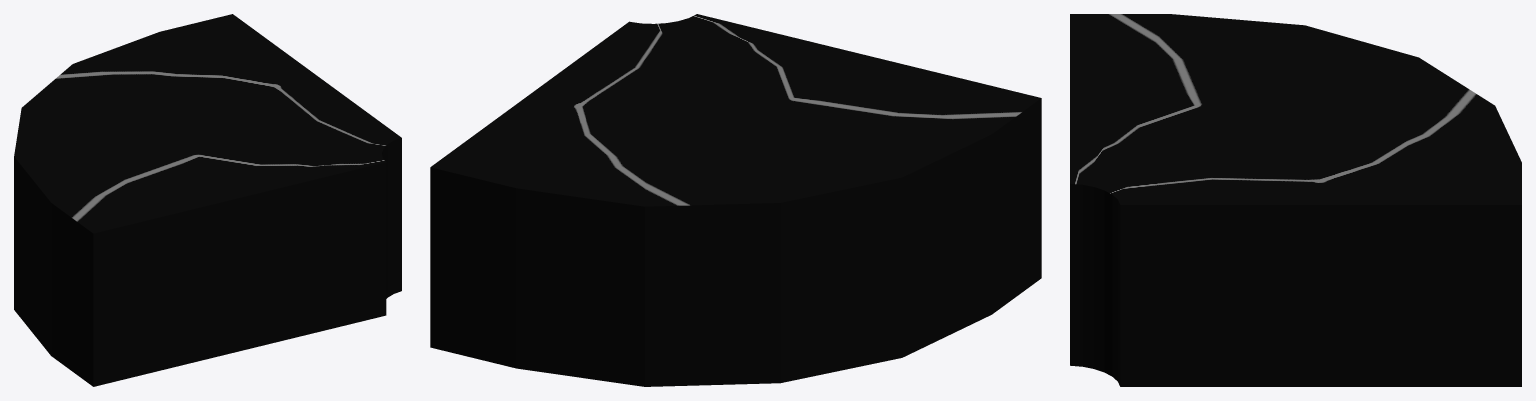
File: conveyorbelt_corner.fbx
3 renders of one model, left to right at view 1: azimuth 30°, elevation 25°; view 2: azimuth 150°, elevation 25°; view 3: azimuth 270°, elevation 25°, orthographic. The views are drawn at different scales.
Visible parts, largest first — view 1: conveyor_corner; view 2: conveyor_corner; view 3: conveyor_corner.
Part boxes in pixels (left/top/right/bottom): conveyor_corner: left=14, top=14, right=401, bottom=386; conveyor_corner: left=430, top=14, right=1041, bottom=386; conveyor_corner: left=1070, top=14, right=1521, bottom=386.
Bounding box in the file's own units: 180 × 80 × 180.
Materials: 1 (1 with a texture image).
